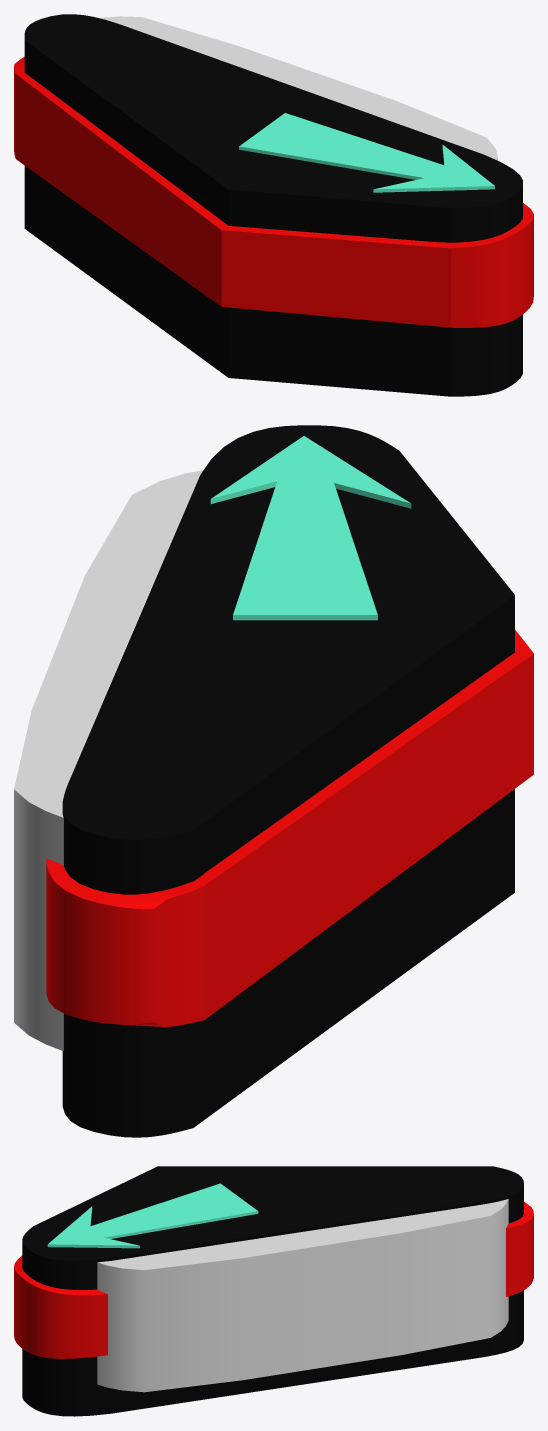
The model's file is L_SlingShot.fbx.
3 renders of one model, top to bottom at view 1: azimuth 30°, elevation 25°; view 2: azimuth 150°, elevation 25°; view 3: azimuth 270°, elevation 25°, orthographic. The views are drawn at different scales.
Parts seen in each view (by area): view 1: L_Slingshot, SlingShot COL; view 2: L_Slingshot, SlingShot COL; view 3: SlingShot COL, L_Slingshot.
Boxes of the visible parts, box(x1,y1,x2,y2) form: L_Slingshot: box(14, 14, 533, 396); SlingShot COL: box(99, 16, 497, 160); L_Slingshot: box(46, 425, 533, 1137); SlingShot COL: box(14, 470, 203, 1050); SlingShot COL: box(97, 1199, 508, 1392); L_Slingshot: box(14, 1166, 533, 1416).
Size of the model in its own units: 6.57 by 4.63 by 13.77.
